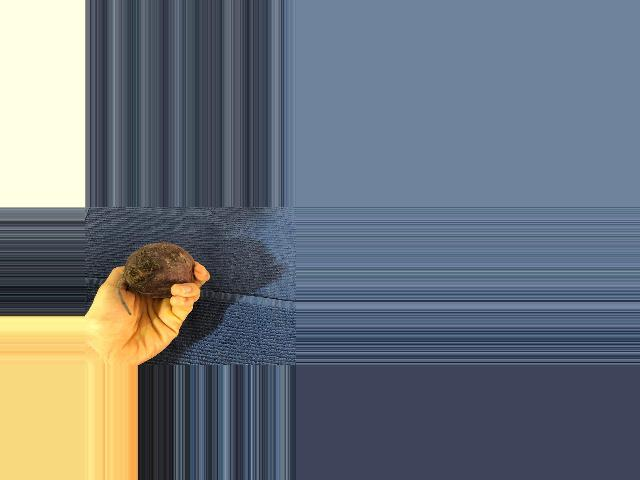beet: (117, 243, 195, 316)
